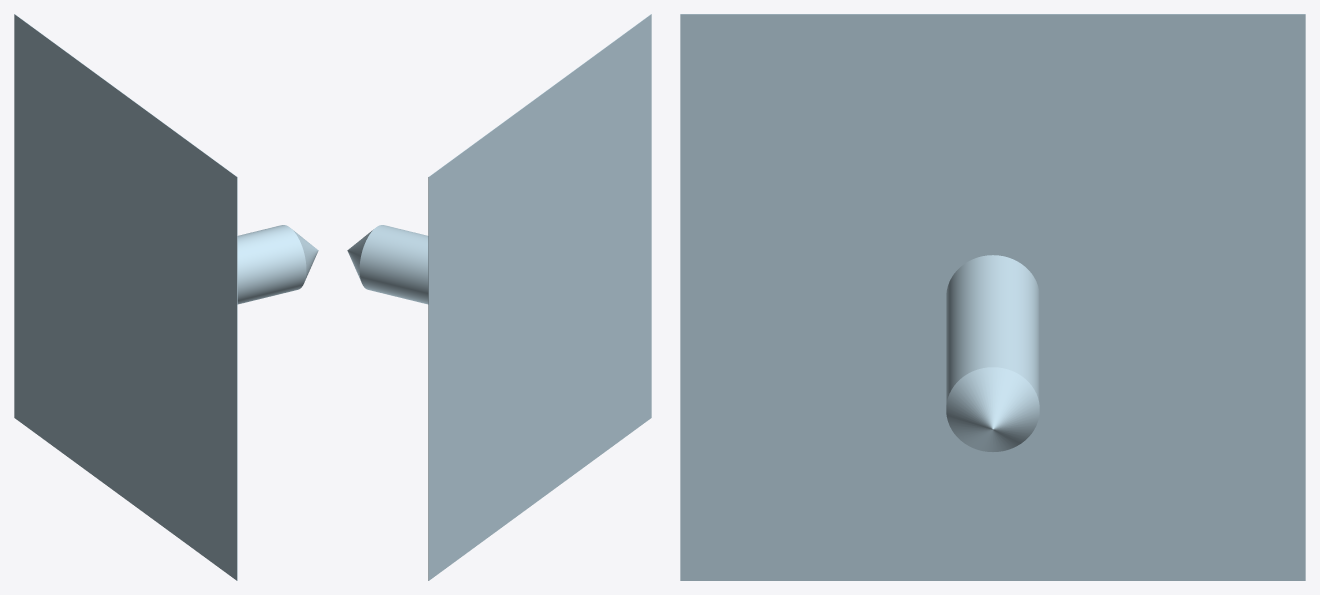
The model's file is Plane_Arrow.gltf.
3 renders of one model, left to right at view 1: azimuth 30°, elevation 25°; view 2: azimuth 150°, elevation 25°; view 3: azimuth 270°, elevation 25°, orthographic. The views are drawn at different scales.
Visible parts, largest first — view 1: Part 1; view 2: Part 1; view 3: Part 1.
Boxes of the visible parts, x1=… form: Part 1: x1=14, y1=14, x2=318, y2=580; Part 1: x1=347, y1=14, x2=651, y2=580; Part 1: x1=680, y1=14, x2=1305, y2=580.
Bounding box in the file's own units: 0.05 × 0.1 × 0.1.
